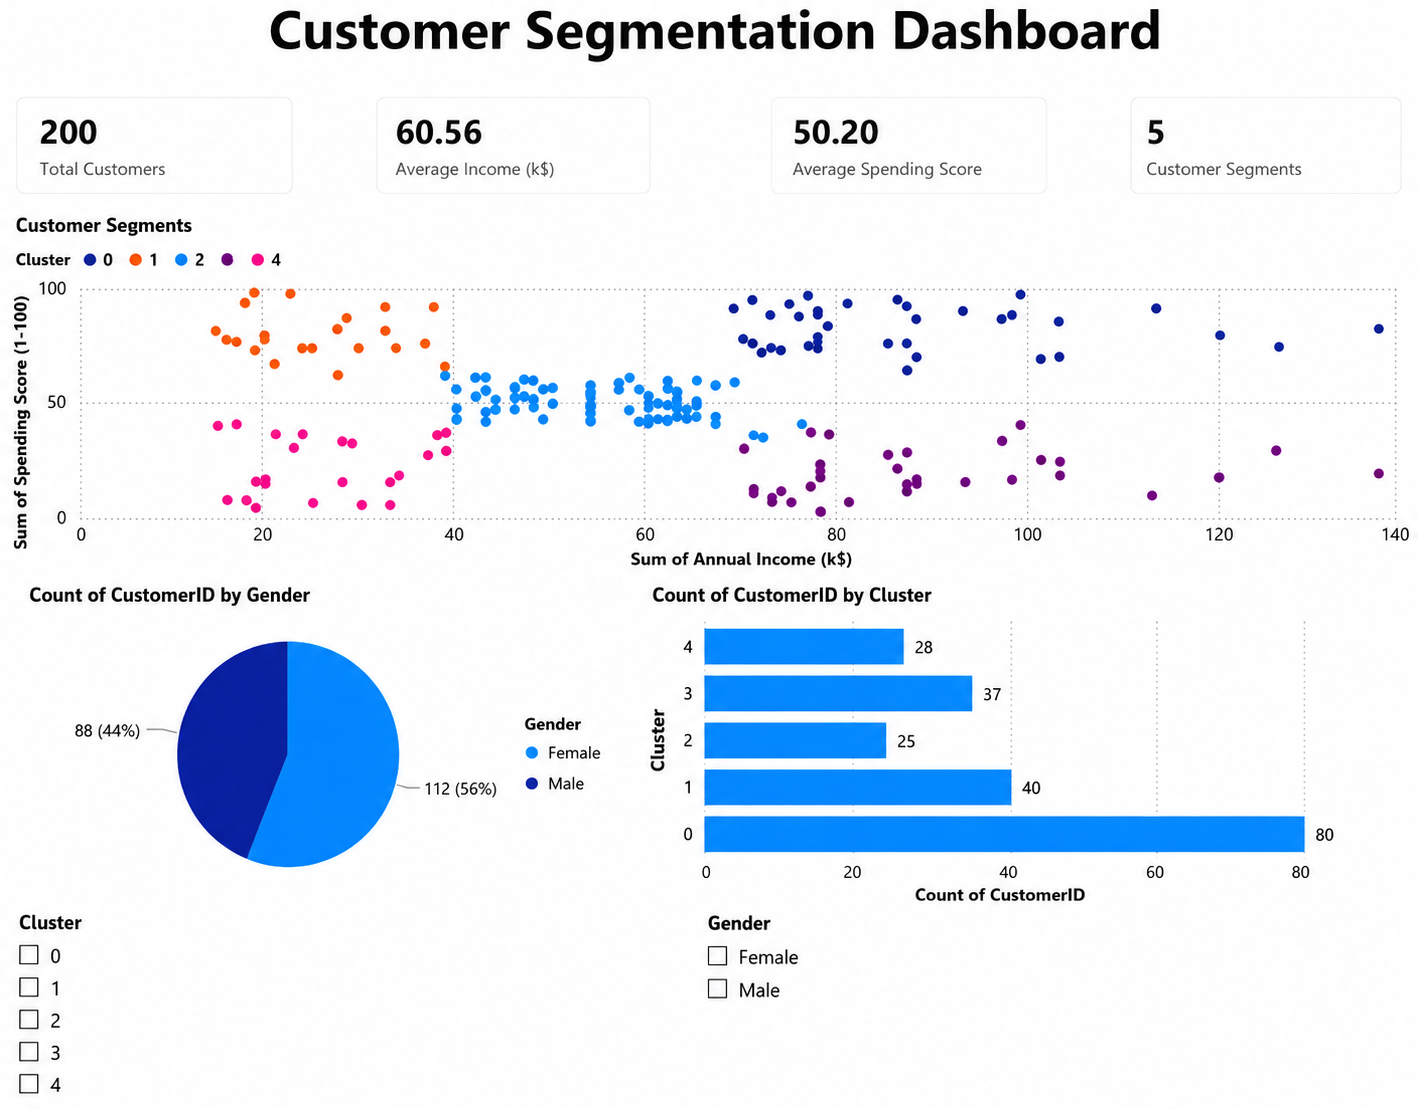

What the dashboard file says about the page in this screenshot:
{"tool":"powerbi","page":{"name":"Page 1","canvas":[1280,1100],"ordinal":0},"visuals":[{"type":"cardVisual","fields":{"Data":["CountNonNull(Mall_Customers_Clusters.CustomerID)"]},"box":[0,96.1,277.2,116.3],"z":0},{"type":"cardVisual","fields":{"Data":["Avg(Mall_Customers_Clusters.Annual Income (k$))"]},"box":[322,96.1,277.2,116.3],"z":1000},{"type":"cardVisual","fields":{"Data":["Avg(Mall_Customers_Clusters.Spending Score (1-100))"]},"box":[679.7,96.1,279.5,116.3],"z":2000},{"type":"cardVisual","fields":{"Data":["Count(Mall_Customers_Clusters.Cluster)"]},"box":[999.4,96.1,279.5,116.3],"z":3000},{"type":"scatterChart","title":"Customer Segments","fields":{"X":["Sum(Mall_Customers_Clusters.Annual Income (k$))"],"Y":["Sum(Mall_Customers_Clusters.Spending Score (1-100))"],"Series":["Mall_Customers_Clusters.Cluster"],"Category":["Mall_Customers_Clusters.CustomerID"]},"box":[0,212.4,1281.1,297.4],"z":4000},{"type":"pieChart","fields":{"Category":["Mall_Customers_Clusters.Gender"],"Y":["CountNonNull(Mall_Customers_Clusters.CustomerID)"]},"box":[0,509.8,599.2,297.4],"z":5000},{"type":"listSlicer","fields":{"Values":["Mall_Customers_Clusters.Gender"]},"box":[641.7,807.1,639.4,187.8],"z":6000},{"type":"listSlicer","fields":{"Values":["Mall_Customers_Clusters.Cluster"]},"box":[0,807.1,639.4,187.8],"z":7000},{"type":"clusteredBarChart","fields":{"Category":["Mall_Customers_Clusters.Cluster"],"Y":["CountNonNull(Mall_Customers_Clusters.CustomerID)"]},"box":[597,509.8,681.9,297.4],"z":8001},{"type":"textbox","box":[0,0,1278.9,96.1],"z":8002}]}

Visuals, with their boxes on the page's 1280x1100 design canvas (x1, y1, x2, y2). These are canvas units, not pixel positions in the 1418x1109 screenshot, which may show the page scaled, cropped or inside an application window:
cardVisual - CountNonNull(Mall_Customers_Clusters.CustomerID): 0,96,277,212
cardVisual - Avg(Mall_Customers_Clusters.Annual Income (k$)): 322,96,599,212
cardVisual - Avg(Mall_Customers_Clusters.Spending Score (1-100)): 680,96,959,212
cardVisual - Count(Mall_Customers_Clusters.Cluster): 999,96,1279,212
"Customer Segments" scatterChart: 0,212,1281,510
pieChart - Mall_Customers_Clusters.Gender x CountNonNull(Mall_Customers_Clusters.CustomerID): 0,510,599,807
listSlicer - Mall_Customers_Clusters.Gender: 642,807,1281,995
listSlicer - Mall_Customers_Clusters.Cluster: 0,807,639,995
clusteredBarChart - Mall_Customers_Clusters.Cluster x CountNonNull(Mall_Customers_Clusters.CustomerID): 597,510,1279,807
textbox: 0,0,1279,96
